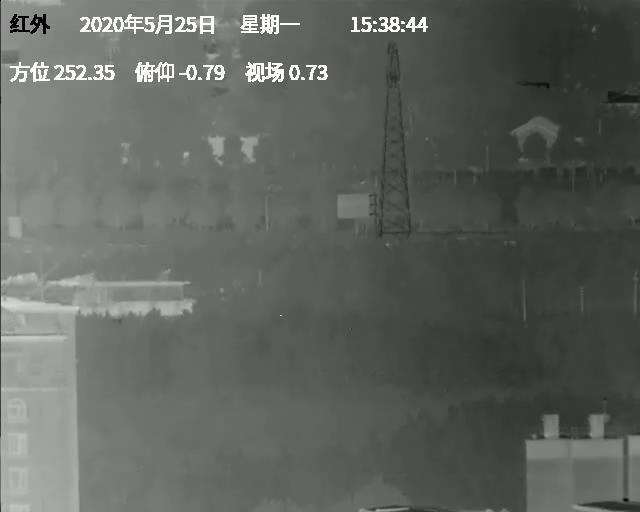uav: (384, 242, 391, 249)
